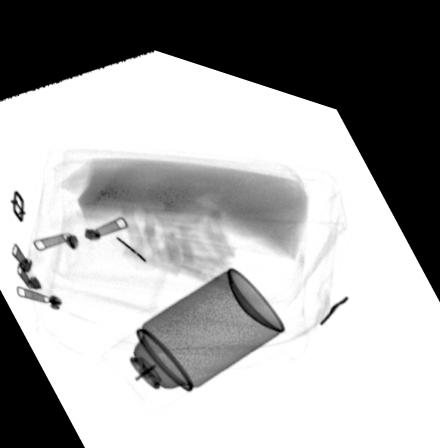Sprayer: (98, 251, 286, 405)
